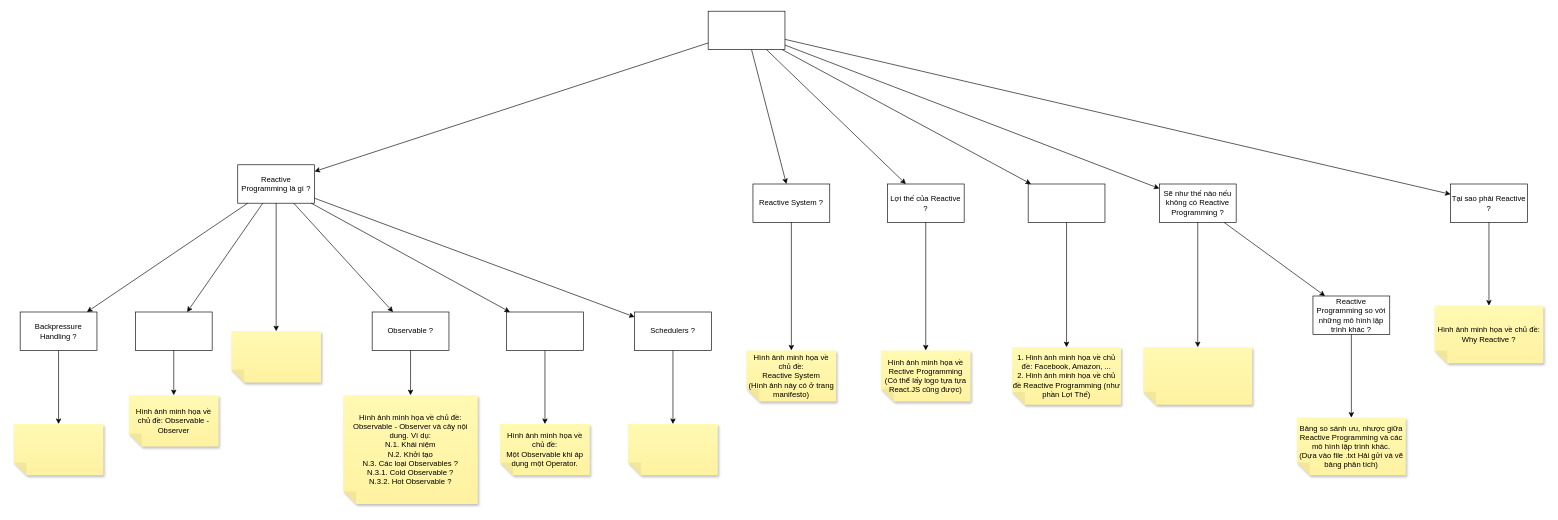
Image size: 1558x520. Some labels were removed from this diagram. Each missing label, with the centre of its shape:
"Hình ảnh minh họa này Hải sẽ cung cấp." belongs at point (1198, 376).
"Hình ảnh minh họa về chủ đề: Quá tải dữ liệu hoặc tắt nghẽn hệ thống." belongs at point (59, 450).
"Hình ảnh minh họa về chủ đề: What is Reactive Programming ?" belongs at point (276, 357).
"Icon một bộ lịch." belongs at point (673, 450).
"Observer ?" belongs at point (173, 330).
"Operators ?" belongs at point (544, 330).
"Slide báo cáo Reactive" belongs at point (746, 30).
"Ứng dụng thực tế ?" belongs at point (1066, 202).
